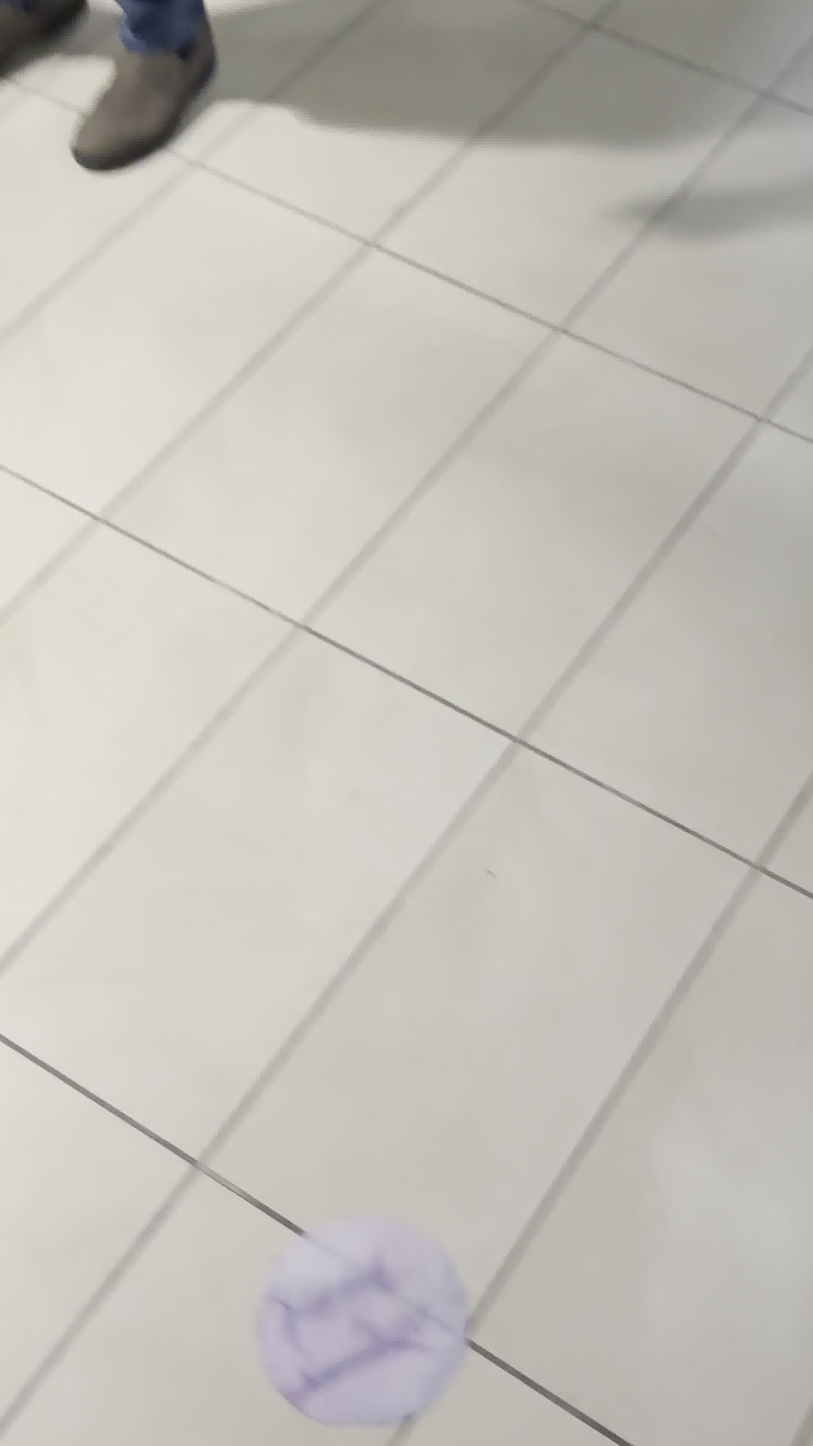Target: (261, 1226, 470, 1424)
